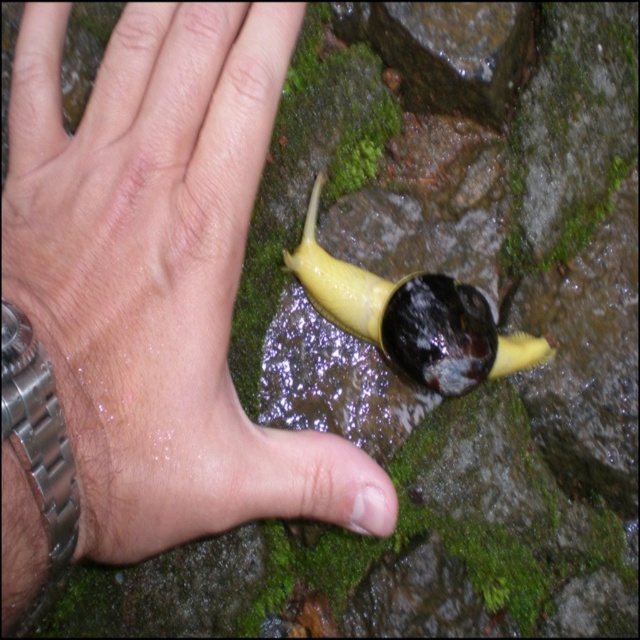Snail: (265, 150, 547, 419)
